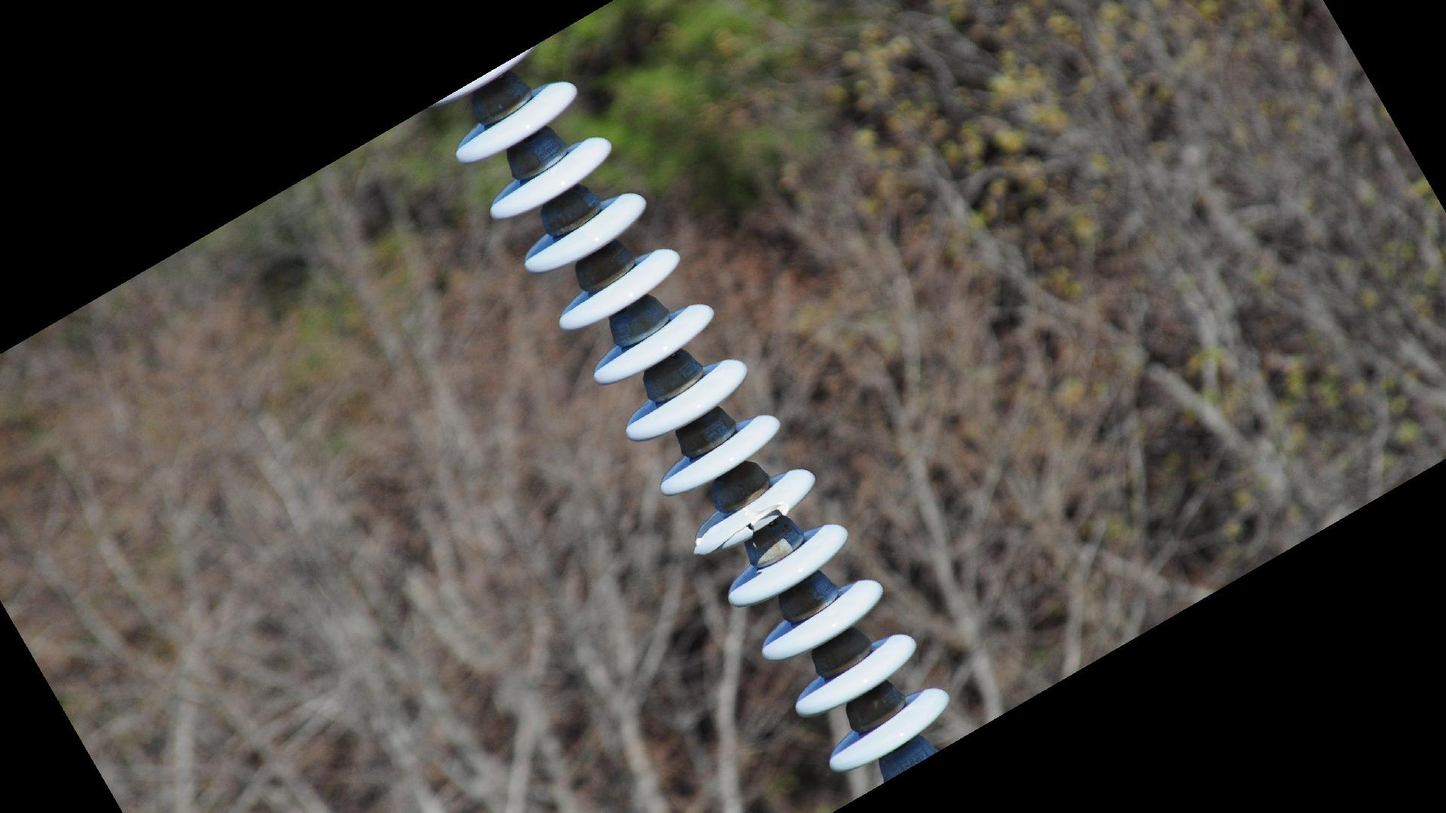insulator: (431, 38, 957, 781)
insulator_breakage: (726, 499, 795, 547)
